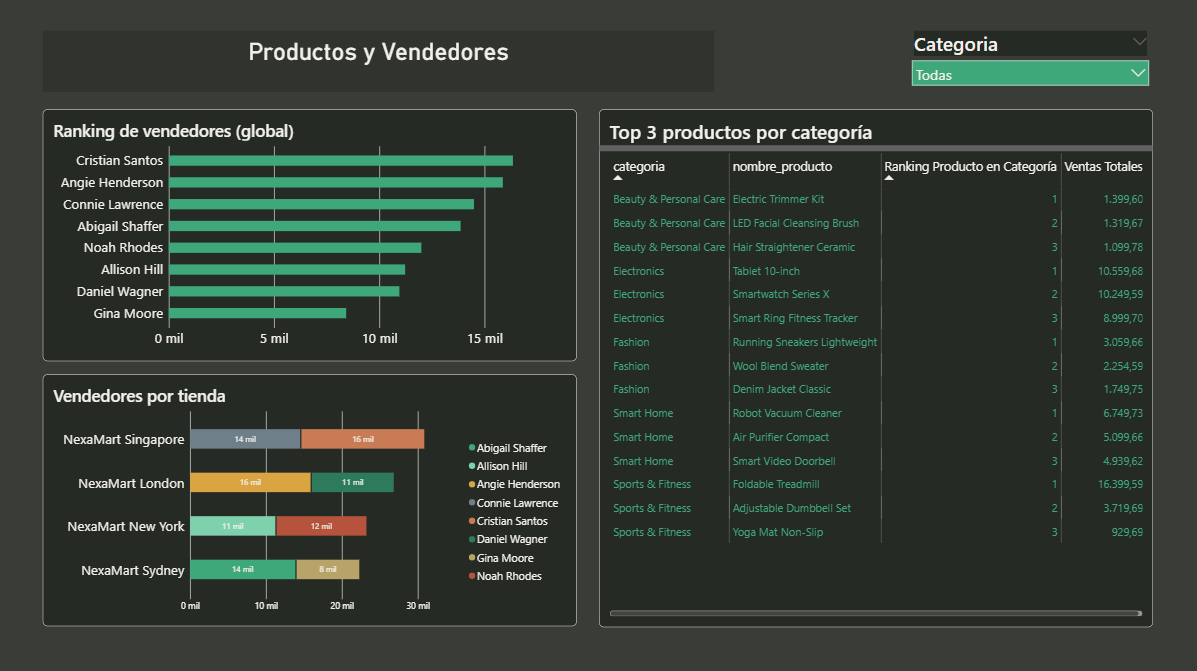

The dashboard page shown, as its layout file describes it:
{"tool":"powerbi","page":{"name":"Productos y Vendedores","canvas":[1920,1080],"ordinal":1},"visuals":[{"type":"barChart","title":"Vendedores por tienda","fields":{"Category":["nexamart dimtienda.nombre_tienda"],"Series":["nexamart dimvendedor.nombre_vendedor"],"Y":["Medidas.Ventas Totales"]},"box":[70.6,602.6,854.2,403.6],"z":0},{"type":"tableEx","title":"Top 3 productos por categoría","fields":{"Values":["nexamart dimproducto.categoria","nexamart dimproducto.nombre_producto","Medidas.Ranking Producto en Categoría","Medidas.Ventas Totales"]},"box":[959.1,177.3,886.7,828.8],"z":1000},{"type":"barChart","title":"Ranking de vendedores (global)","fields":{"Category":["nexamart dimvendedor.nombre_vendedor"],"Y":["Medidas.Ventas Totales"]},"box":[70.6,177.3,854.2,403.6],"z":2000},{"type":"slicer","fields":{"Values":["nexamart dimproducto.categoria"]},"box":[1456.8,52.5,389.1,193.6],"z":3000},{"type":"textbox","box":[70,52,1074,98],"z":4000}]}

Visuals, with their boxes in screenshot pixels (x1, y1, x2, y2), scaled from the page's 1920x1080 canvas onto the 1197x671 screenshot:
"Vendedores por tienda" barChart: bbox(44, 374, 577, 625)
"Top 3 productos por categoría" tableEx: bbox(598, 110, 1151, 625)
"Ranking de vendedores (global)" barChart: bbox(44, 110, 577, 361)
slicer - nexamart dimproducto.categoria: bbox(908, 33, 1151, 153)
textbox: bbox(44, 32, 713, 93)
